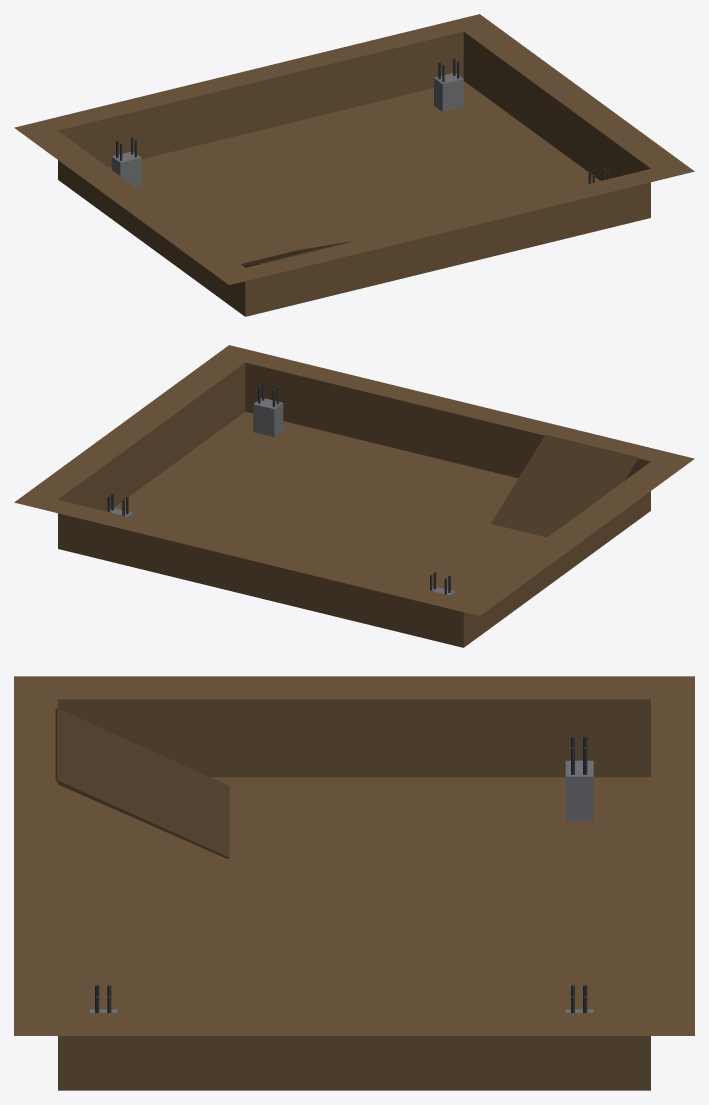
File: Construction_5.fbx
3 views of the same model, one above another, from view 1: azimuth 30°, elevation 25°; view 2: azimuth 150°, elevation 25°; view 3: azimuth 270°, elevation 25° (orthographic). The views are drawn at different scales.
Parts seen in each view (by area): view 1: Construction_5; view 2: Construction_5; view 3: Construction_5.
Boxes of the visible parts, <box> form: Construction_5: <box>14,14,694,316</box>; Construction_5: <box>14,345,694,647</box>; Construction_5: <box>14,676,694,1090</box>.
Size of the model in its own units: 1000 by 111 by 800.
